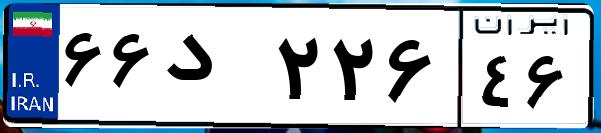2: (270, 28, 330, 110), (330, 28, 385, 110)
4: (475, 38, 525, 113)
6: (385, 28, 445, 110), (57, 26, 110, 100), (525, 38, 570, 115), (110, 28, 158, 98)
د: (158, 20, 270, 120)
